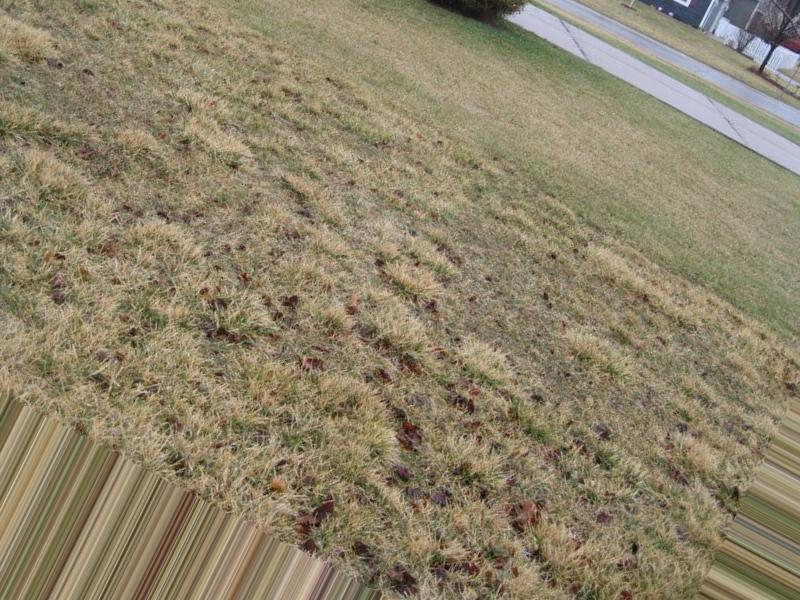patch: (232, 267, 380, 429), (633, 126, 788, 260), (45, 192, 171, 348), (457, 314, 562, 482), (432, 42, 609, 139), (297, 142, 402, 246), (139, 79, 232, 193), (408, 488, 509, 584), (309, 15, 388, 77), (628, 334, 688, 409), (536, 151, 610, 206), (280, 453, 340, 511), (95, 361, 159, 414), (440, 200, 475, 251)
